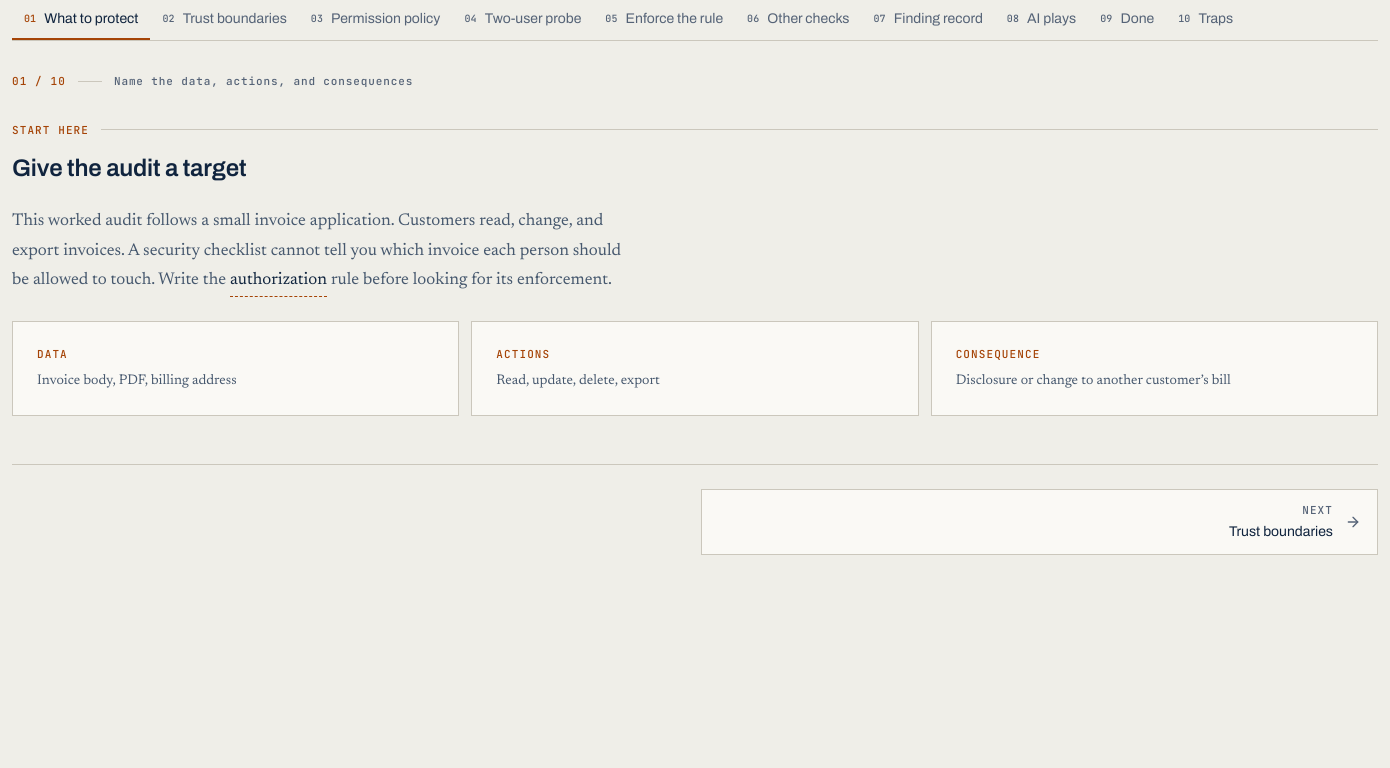
the first unfamiliar security term opens a definition in place
What coordinates should you click on to do the following:
click the button "authorization"
I would click on:
 (279, 282)
Its box is [230,266,327,297].
(page scrolled)
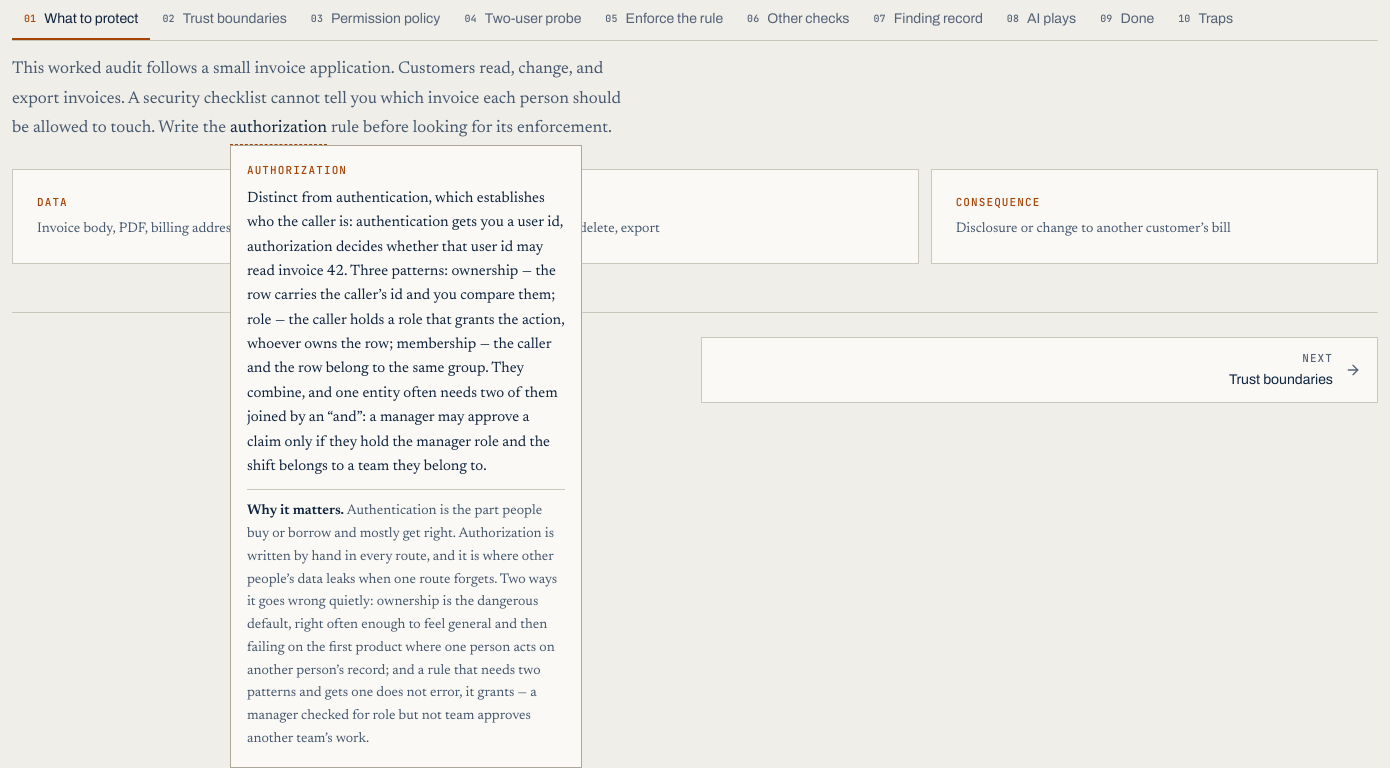
Expected: the element that starts with "authorization" shows "may read invoice 42", [247,191,564,474]
